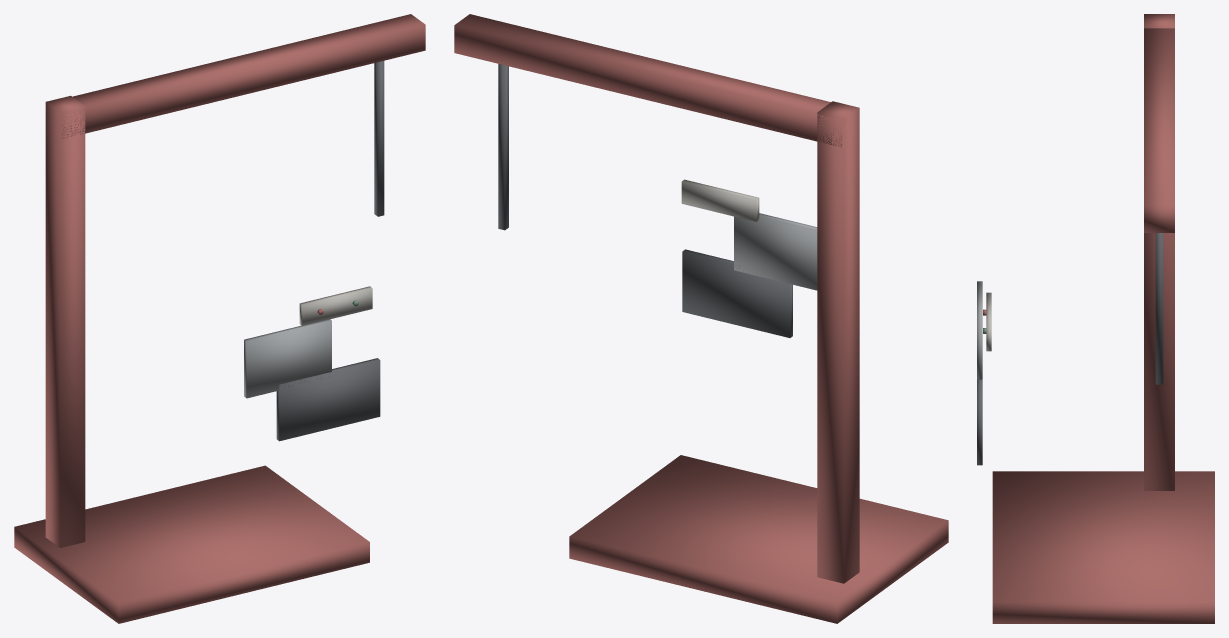
The model's file is engine_hoist__weathered.glb.
The picture shows the model from 3 angles, left to right: view 1: azimuth 30°, elevation 25°; view 2: azimuth 150°, elevation 25°; view 3: azimuth 270°, elevation 25°; orthographic projection. The views are drawn at different scales.
Visible parts, largest first — view 1: world; view 2: world; view 3: world.
Boxes of the visible parts, x1,y1,x2,y2 form: world: [14, 14, 425, 623]; world: [454, 14, 948, 623]; world: [977, 14, 1214, 623].
Size of the model in its own units: 1.5 by 1.74 by 0.7709.
